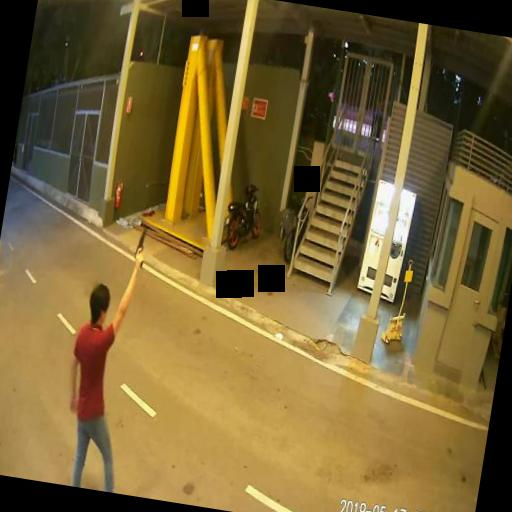Handgun: (130, 225, 147, 267)
